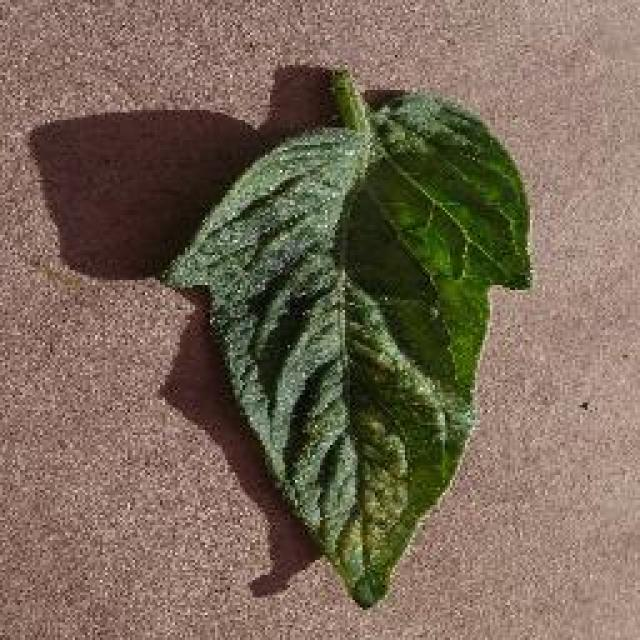Tomato___Spider_mites Two-spotted_spider_mite: (165, 70, 528, 605)
